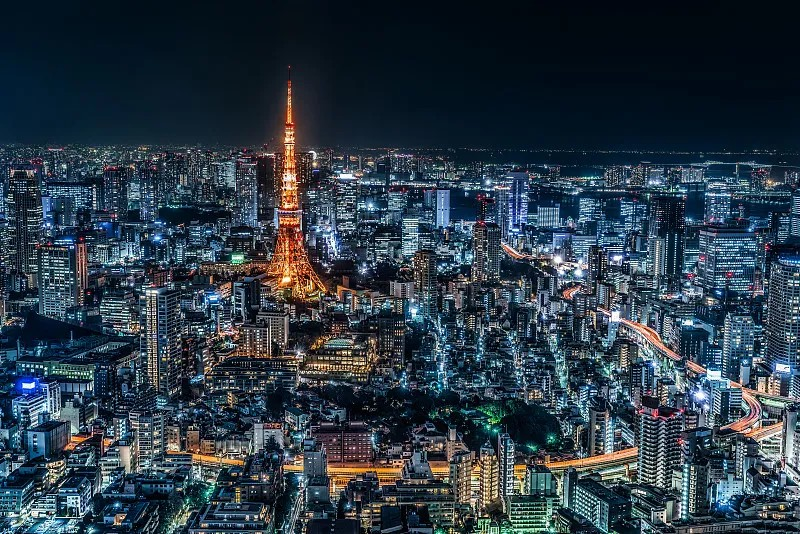Tokyo: (261, 63, 327, 301)
